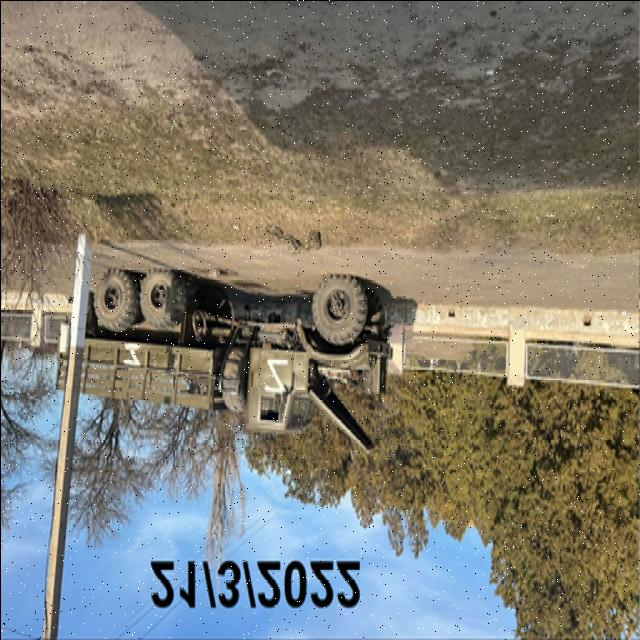TRUCK: (55, 231, 390, 462)
